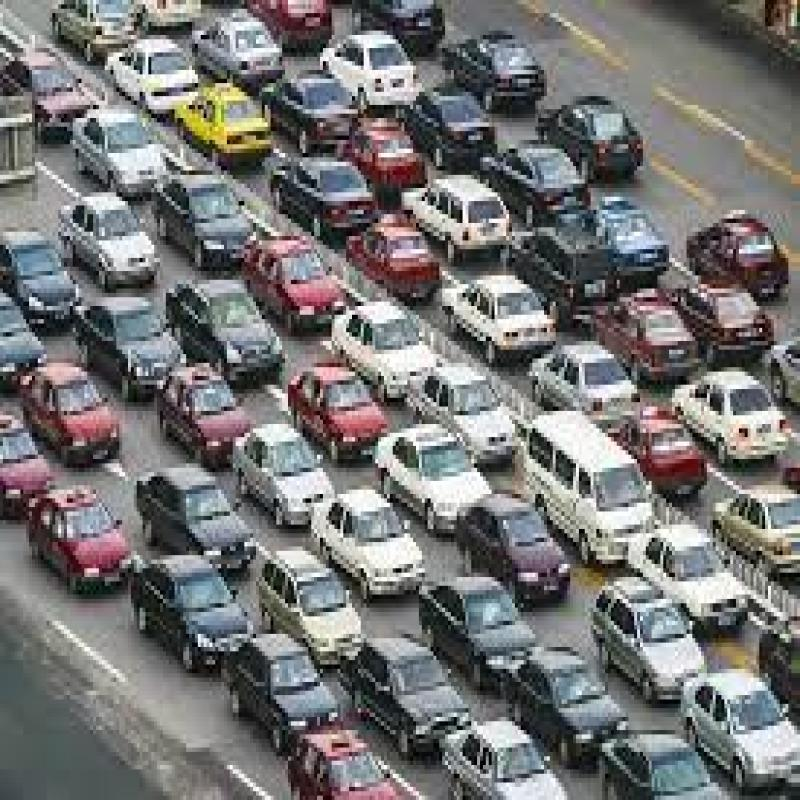car: (372, 386, 495, 536), (130, 523, 254, 671), (586, 554, 712, 696), (260, 525, 362, 690), (678, 667, 800, 800), (418, 551, 534, 681), (317, 482, 421, 618), (153, 340, 257, 474), (425, 708, 576, 800), (643, 511, 746, 642), (278, 695, 399, 800), (660, 366, 778, 467), (120, 457, 247, 533), (249, 225, 337, 331), (292, 353, 374, 450)
